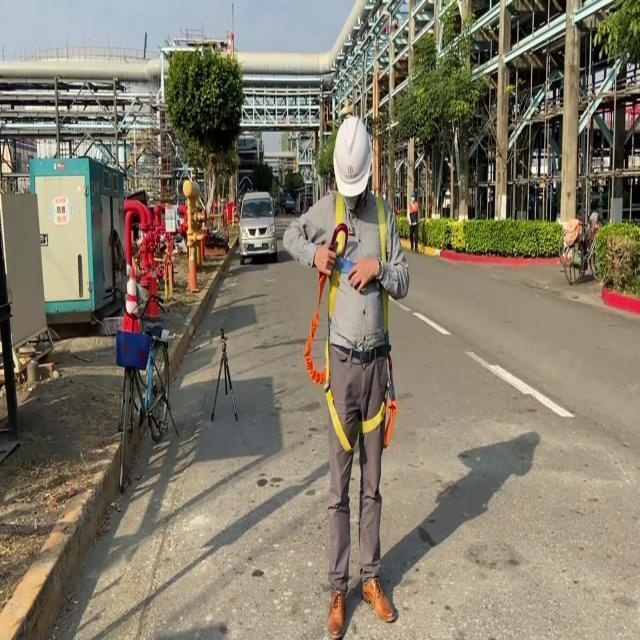Arnes_seguridad: (303, 193, 397, 453)
